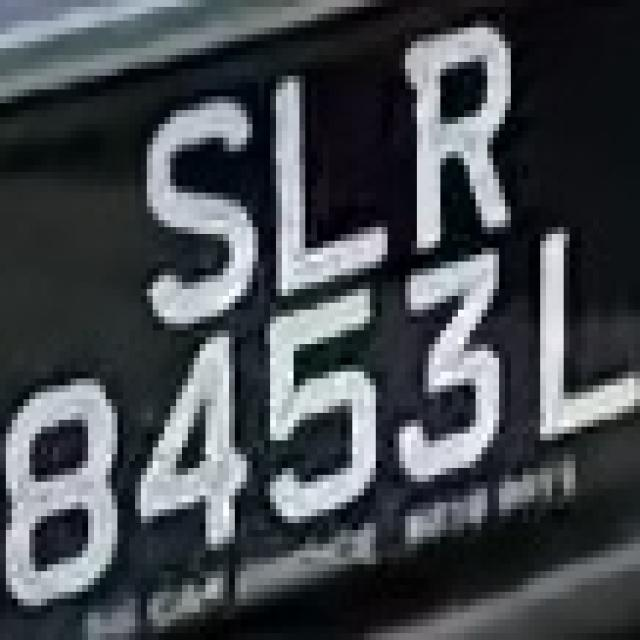3: (387, 234, 511, 502)
4: (123, 296, 264, 571)
5: (258, 289, 399, 523)
8: (6, 351, 123, 626)
L: (270, 41, 393, 296), (522, 213, 640, 454)
R: (394, 0, 540, 234)
S: (100, 62, 264, 316)
